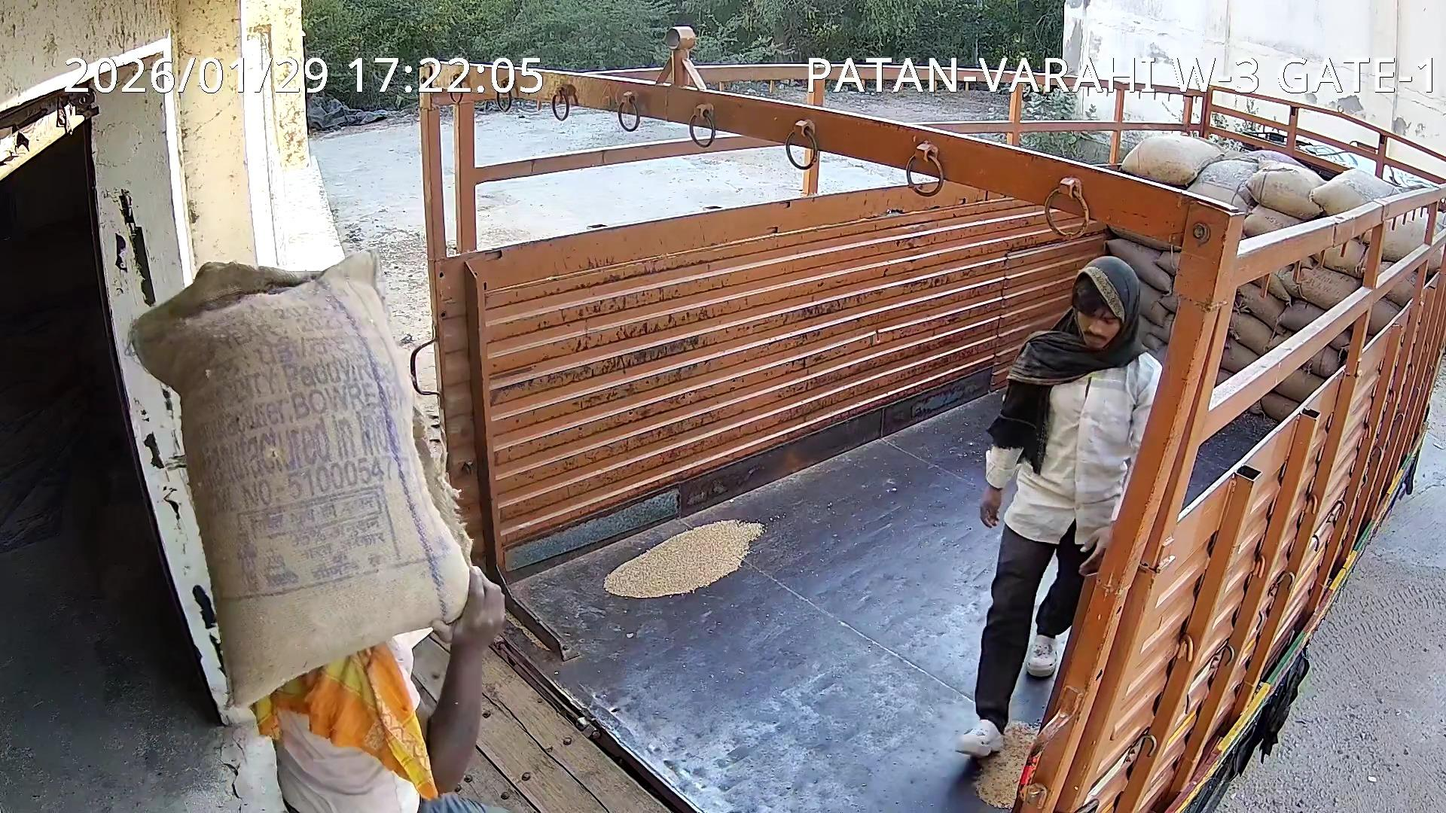Sack: (132, 254, 469, 704)
